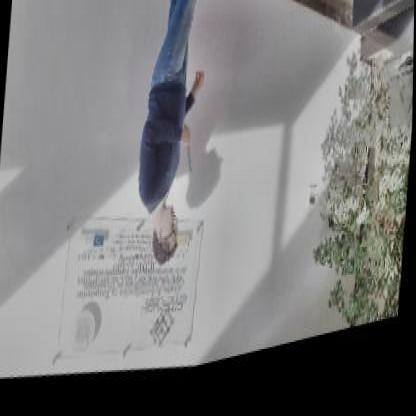knife: (180, 128, 198, 188)
